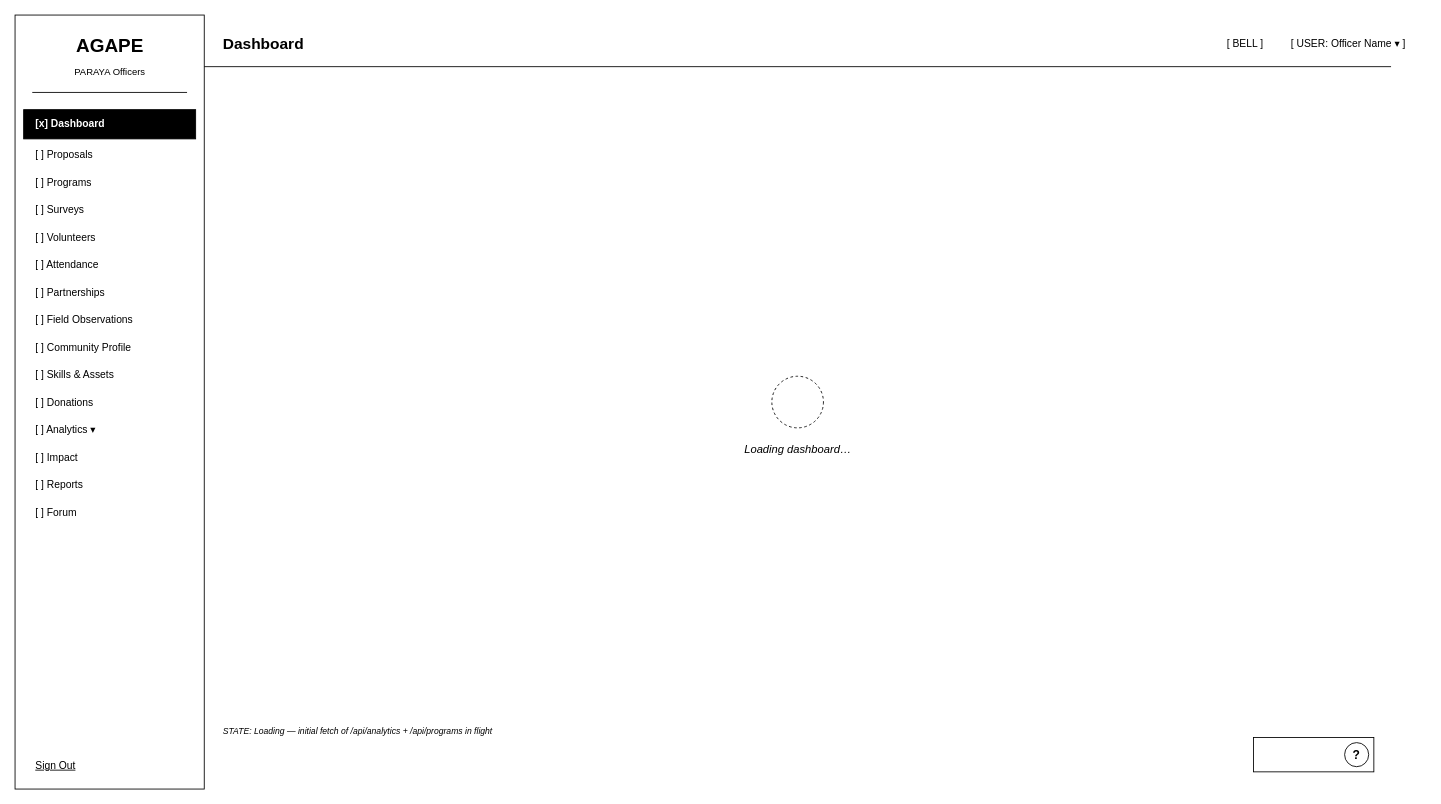
This 1441x804 diagram has some shape labels left out. The shapes that lost their labels are listed below. From the top down, each one's box as (x1, y1, x2, y2) in pixels, then its label:
(771, 375, 823, 428): ( O )
(1253, 737, 1374, 772): [ AI CHATBOT ]
